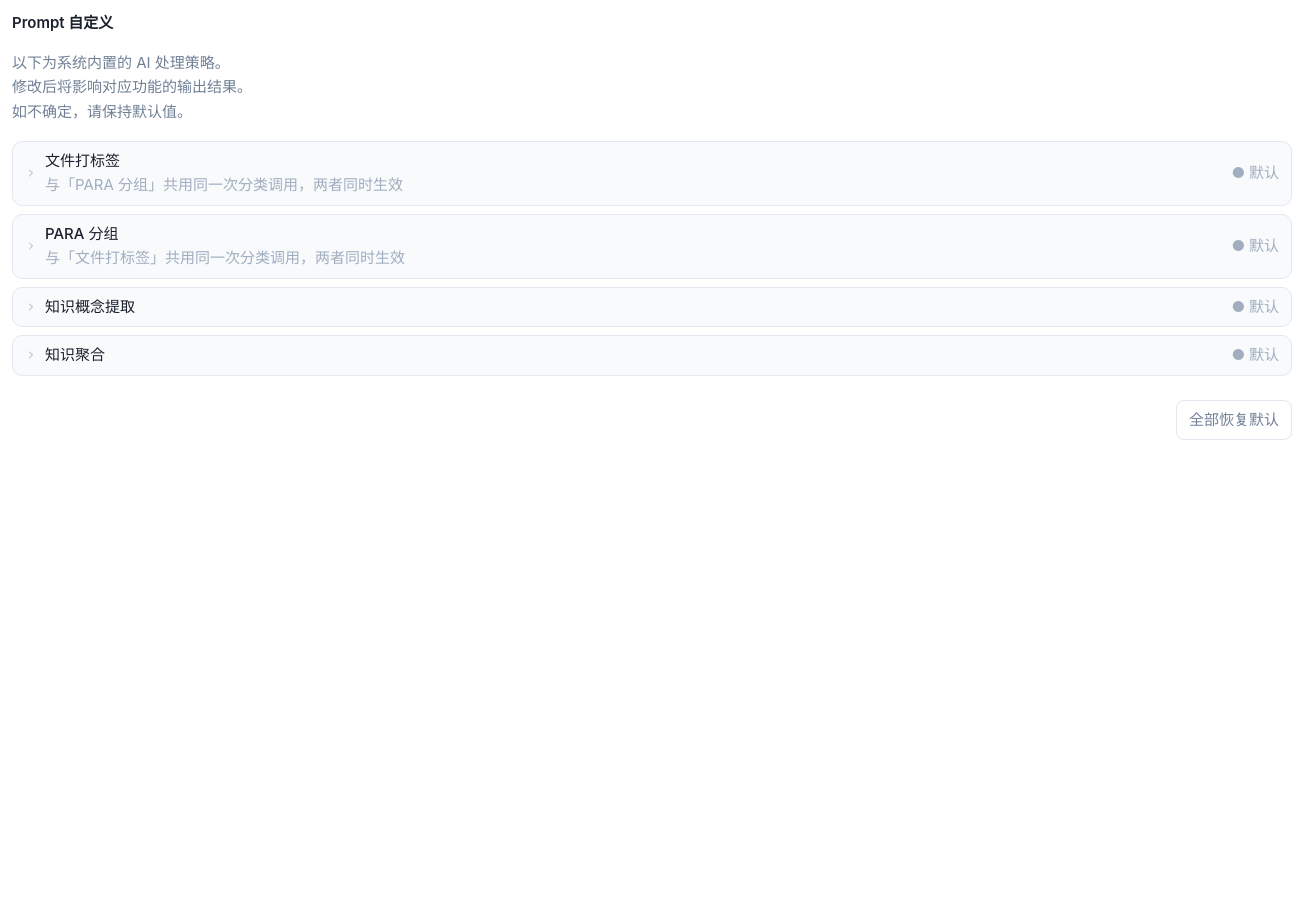
Test: AC-5 ② 点击展开第一个折叠条 › 再次点击折叠头 → textarea 消失（toggle）
The width and height of the screenshot is (1304, 912).
Click the button with test id "prompt-toggle-tagging" at (83, 160), box [13, 142, 1291, 205]
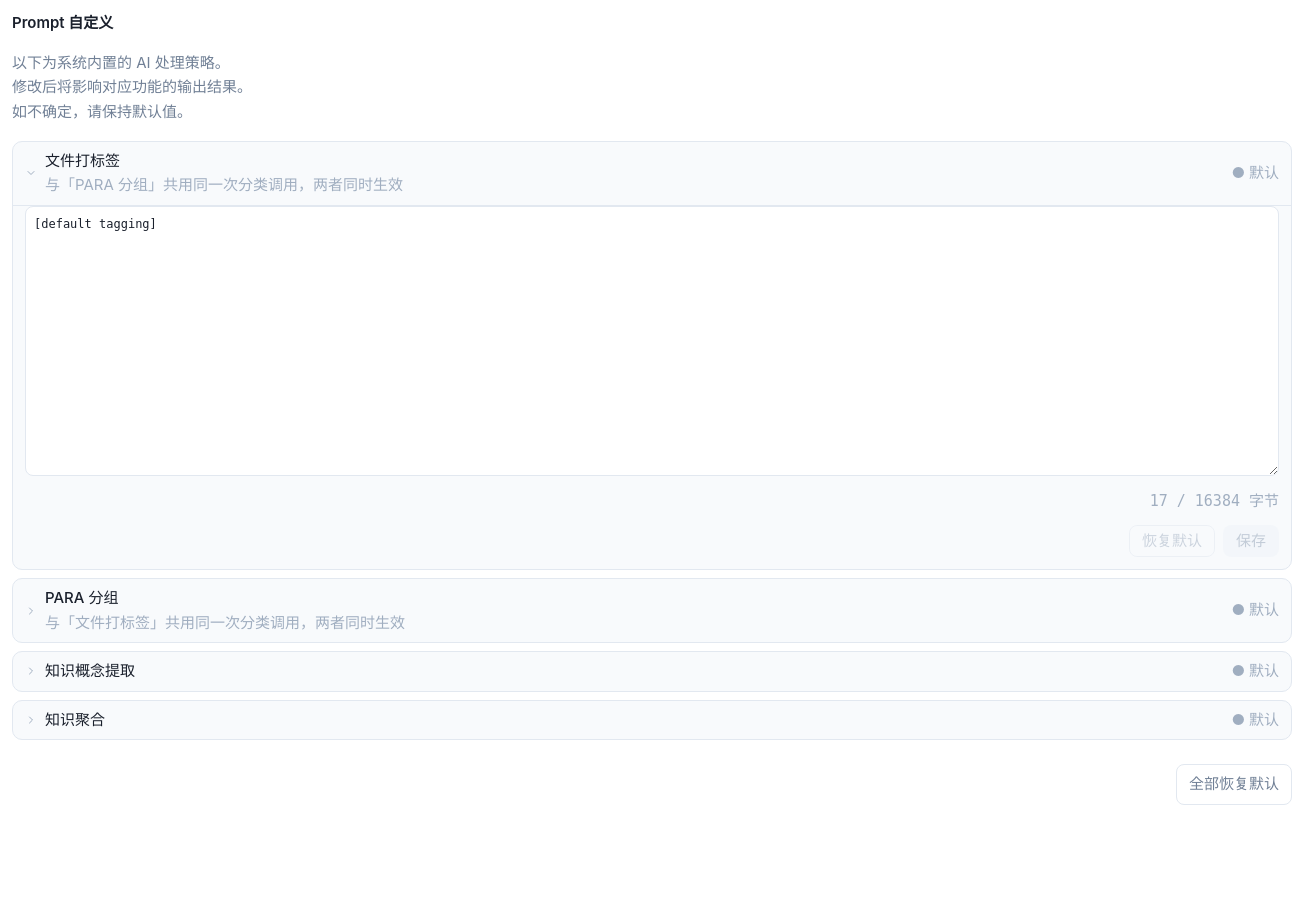
Check: the text box with test id "prompt-textarea-tagging" is shown, box [25, 206, 1279, 476]
Click the button with test id "prompt-toggle-tagging" at (83, 160), box [13, 142, 1291, 205]
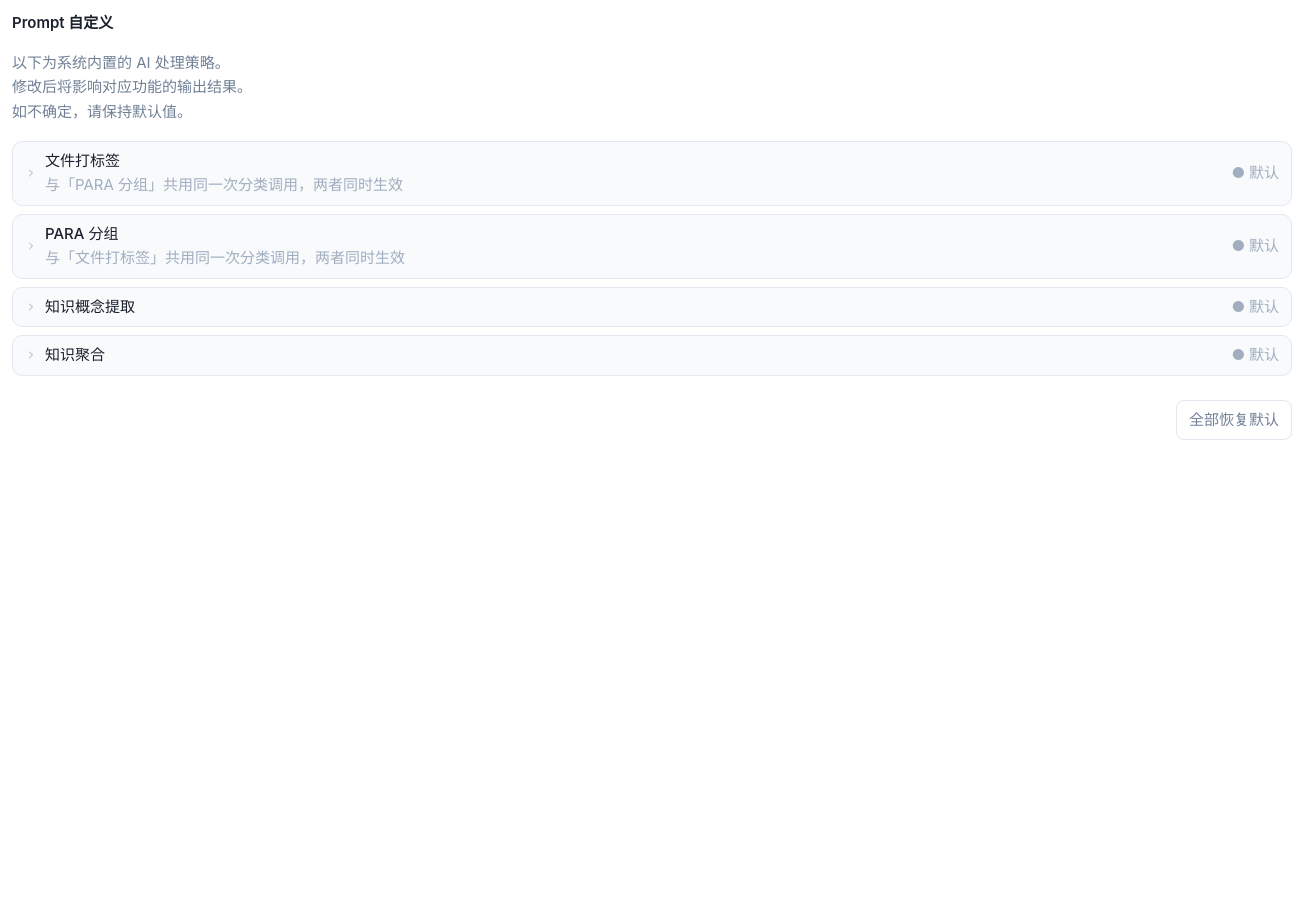
Check: the text box with test id "prompt-textarea-tagging" is gone
